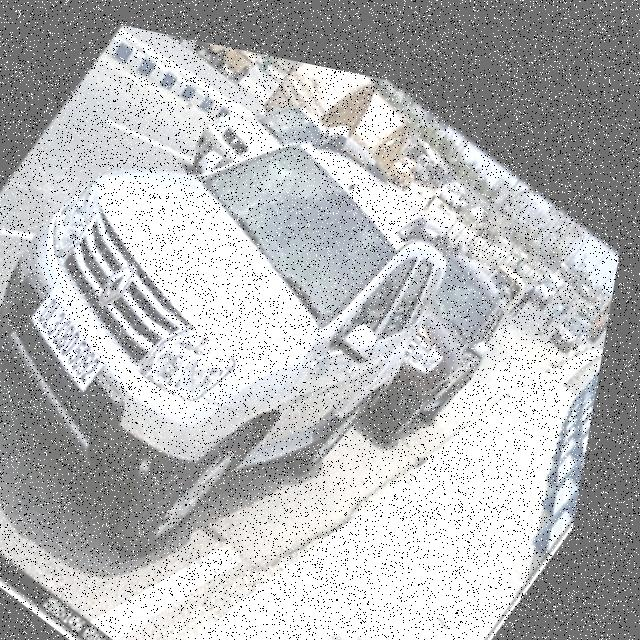license_plate: (0, 255, 155, 427)
